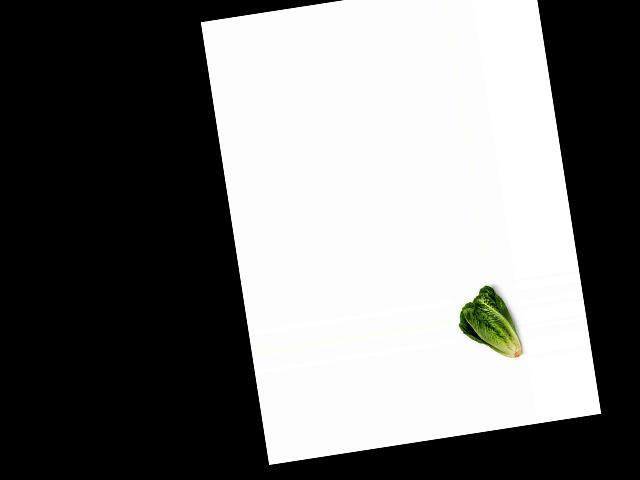lettuce: (454, 281, 526, 370)
